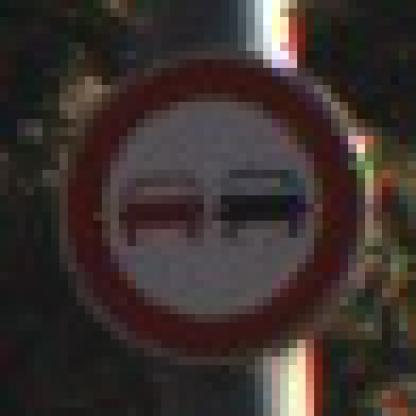No Overtaking: (44, 44, 375, 375)
